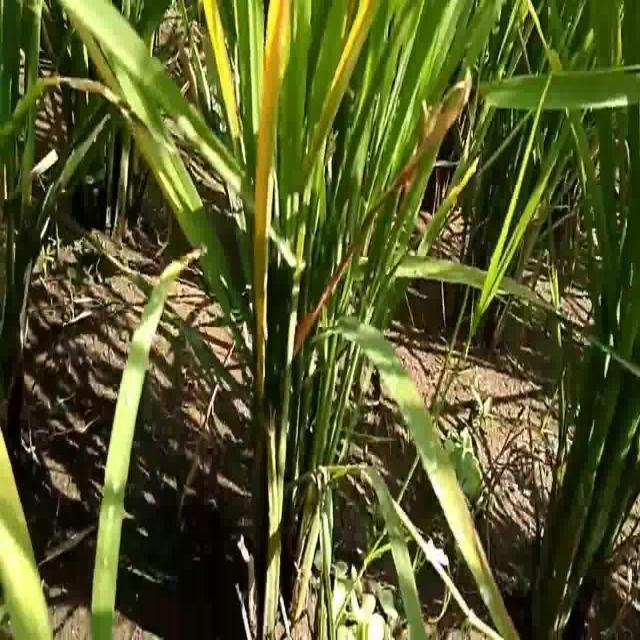Rice Tungro: (243, 2, 291, 397), (199, 2, 241, 141), (325, 10, 379, 117)
